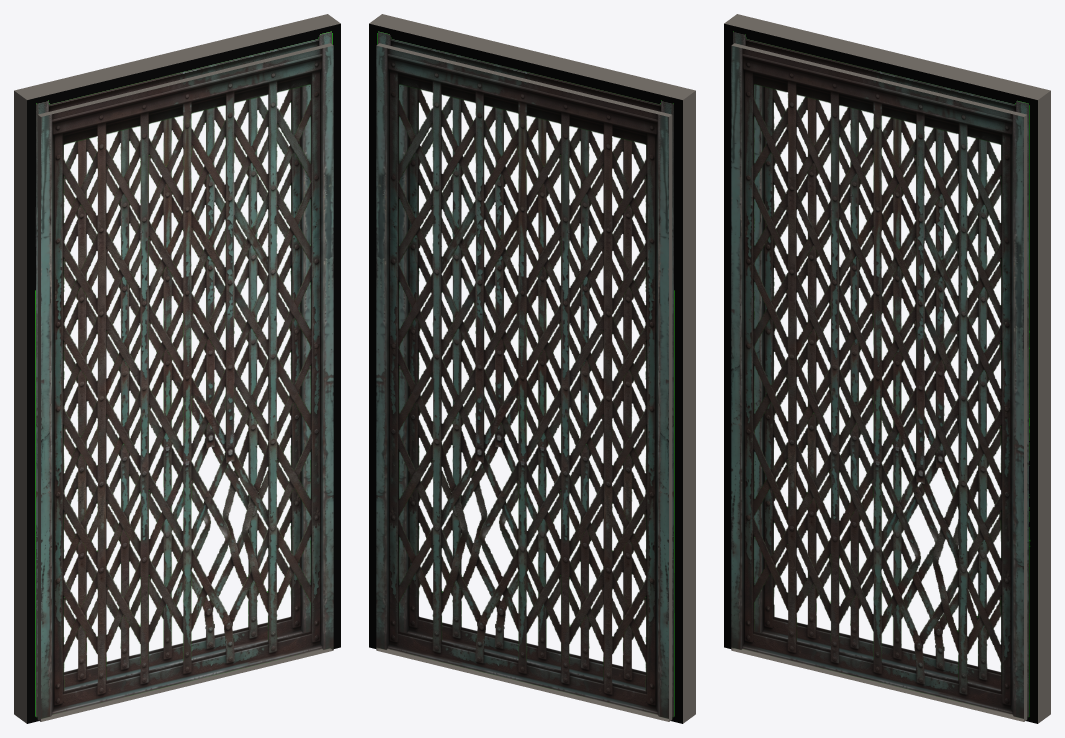
File: elevator-1-door-2.glb
3 renders of one model, left to right at view 1: azimuth 30°, elevation 25°; view 2: azimuth 150°, elevation 25°; view 3: azimuth 330°, elevation 25°, orthographic.
Visible parts, largest first — view 1: door, frame-left, frame-top, frame-right; view 2: door, frame-left, frame-top, frame-right; view 3: door, frame-right, frame-top, frame-left.
Boxes of the visible parts, bbox=[...] form: door: bbox=[37, 43, 333, 721]; frame-left: bbox=[14, 88, 37, 723]; frame-top: bbox=[25, 16, 330, 114]; frame-right: bbox=[317, 14, 340, 648]; door: bbox=[376, 43, 672, 721]; frame-left: bbox=[672, 88, 695, 723]; frame-top: bbox=[379, 16, 684, 114]; frame-right: bbox=[369, 14, 392, 648]; door: bbox=[731, 43, 1027, 721]; frame-right: bbox=[1027, 88, 1050, 723]; frame-top: bbox=[734, 16, 1039, 114]; frame-left: bbox=[724, 14, 747, 648].
Size of the model in its own units: 1.1 by 2.1 by 0.12.
Materials: 3 (2 with a texture image).
